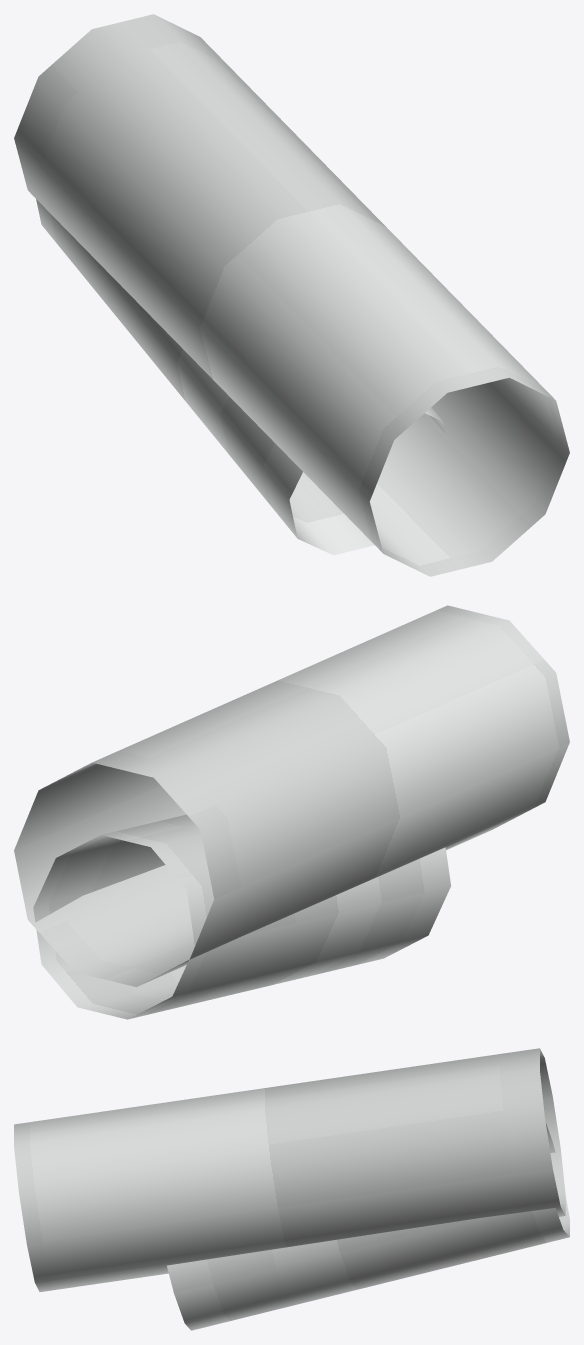
File: trusssignalarm_sloped12_c19.obj
3 views of the same model, one above another, from view 1: azimuth 30°, elevation 25°; view 2: azimuth 150°, elevation 25°; view 3: azimuth 270°, elevation 25° (orthographic). The views are drawn at different scales.
Parts seen in each view (by area): view 1: trusssignalarm_sloped12_c19; view 2: trusssignalarm_sloped12_c19; view 3: trusssignalarm_sloped12_c19.
Boxes of the visible parts, x1,y1,x2,y2 form: trusssignalarm_sloped12_c19: (14, 14, 569, 576); trusssignalarm_sloped12_c19: (14, 605, 569, 1019); trusssignalarm_sloped12_c19: (14, 1048, 569, 1330).
Size of the model in its own units: 0.325 by 0.5505 by 1.06.
